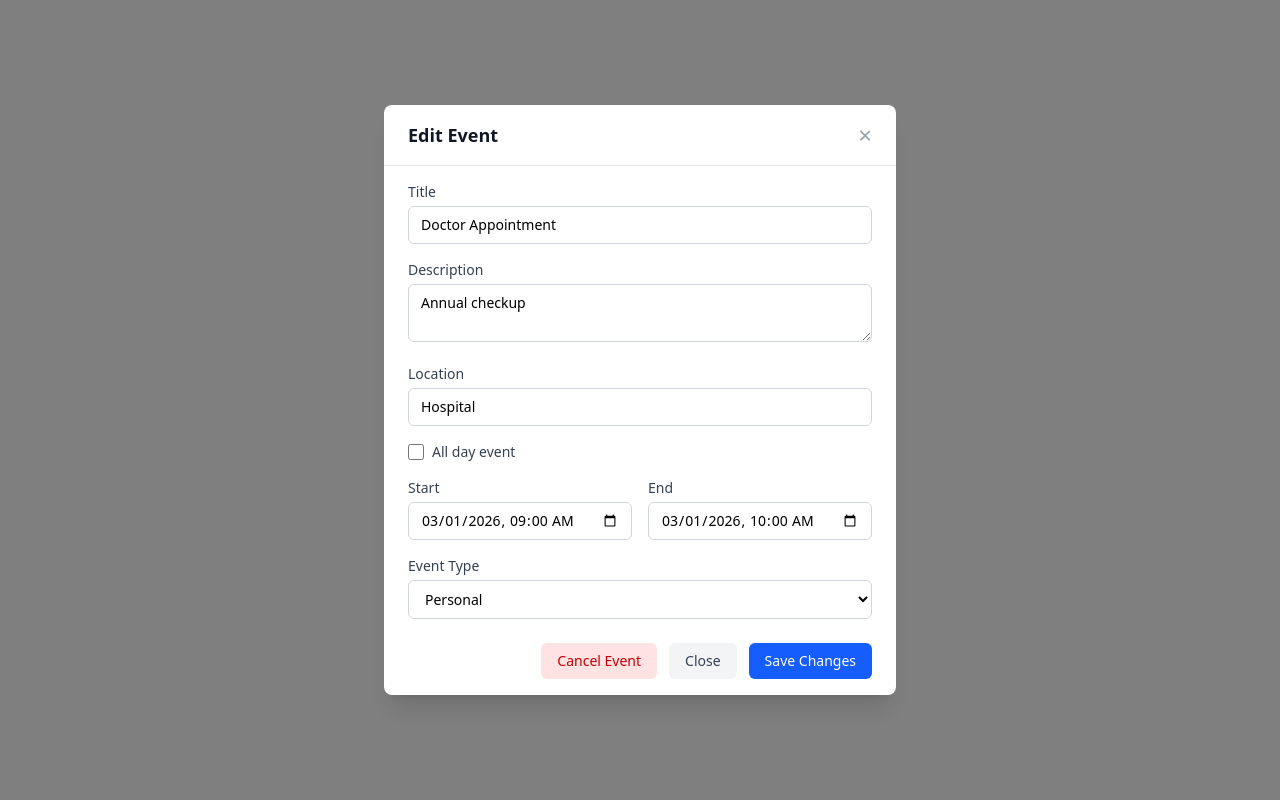
EventDialogComponent — Cancel Confirmation › should set error message on cancel error
Click the button with test id "cancel-event-button".
click(599, 661)  # box [541,643,657,679]
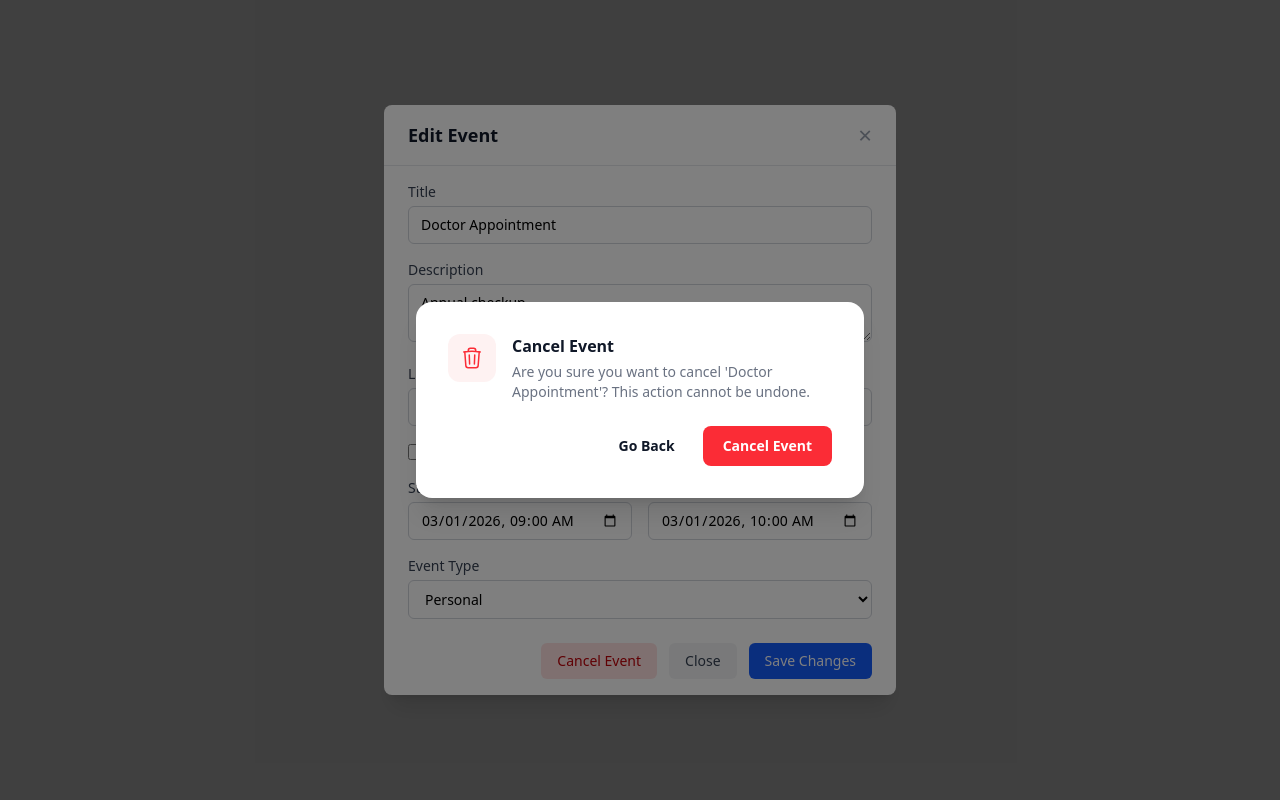
Click the button "Cancel Event".
click(767, 446)  # box [703,426,832,466]
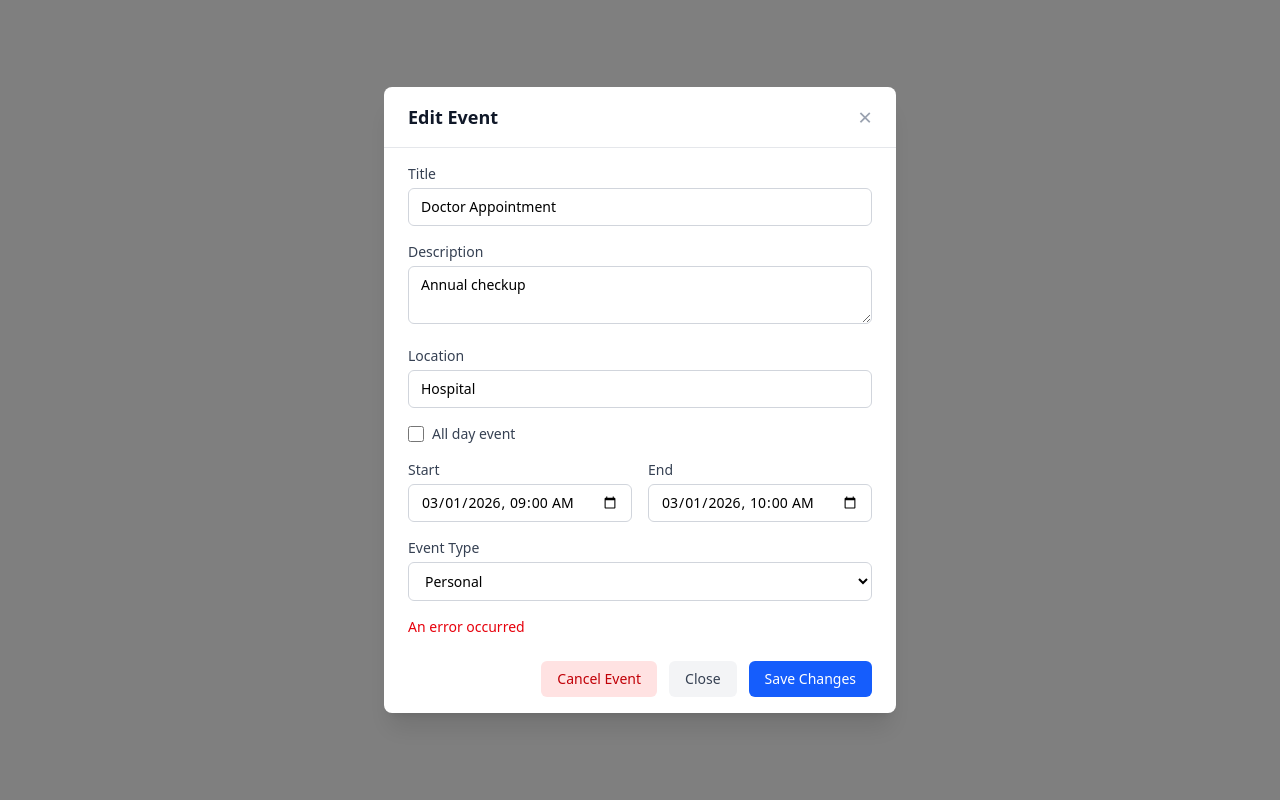
Now the message "An error occurred" is shown, box [408,617,525,636]
